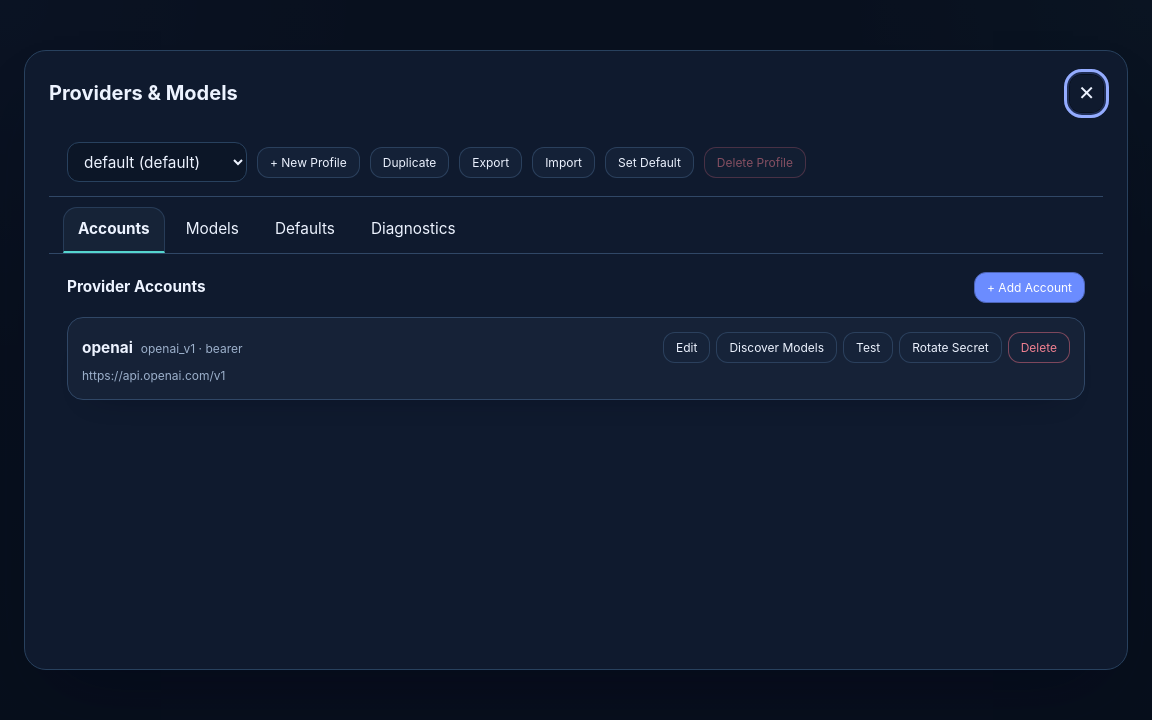
Scenario: ProviderManagementWorkspace › opens import and export actions from the header
Check: the heading "Providers & Models" is shown, box [49, 79, 238, 108]
Click the button "Export": click(491, 162) [459, 147, 522, 178]
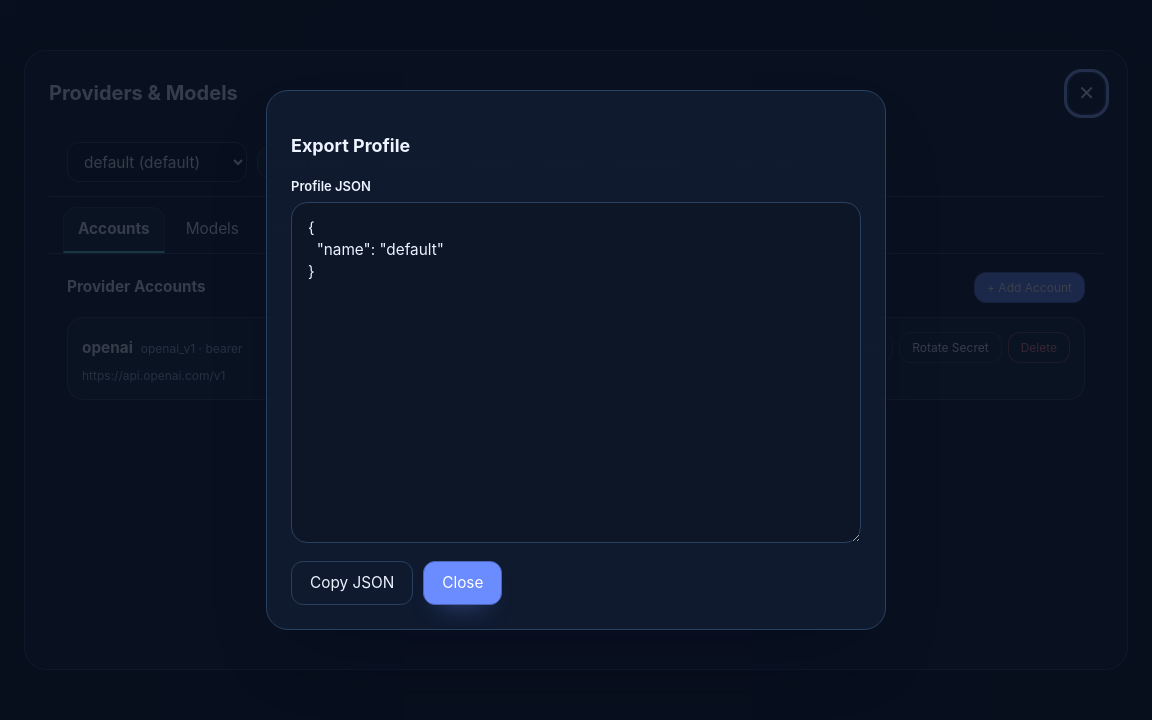
Check: the heading "Export Profile" is shown, box [291, 135, 410, 156]
Click the button "Close": click(463, 583) [423, 561, 502, 605]
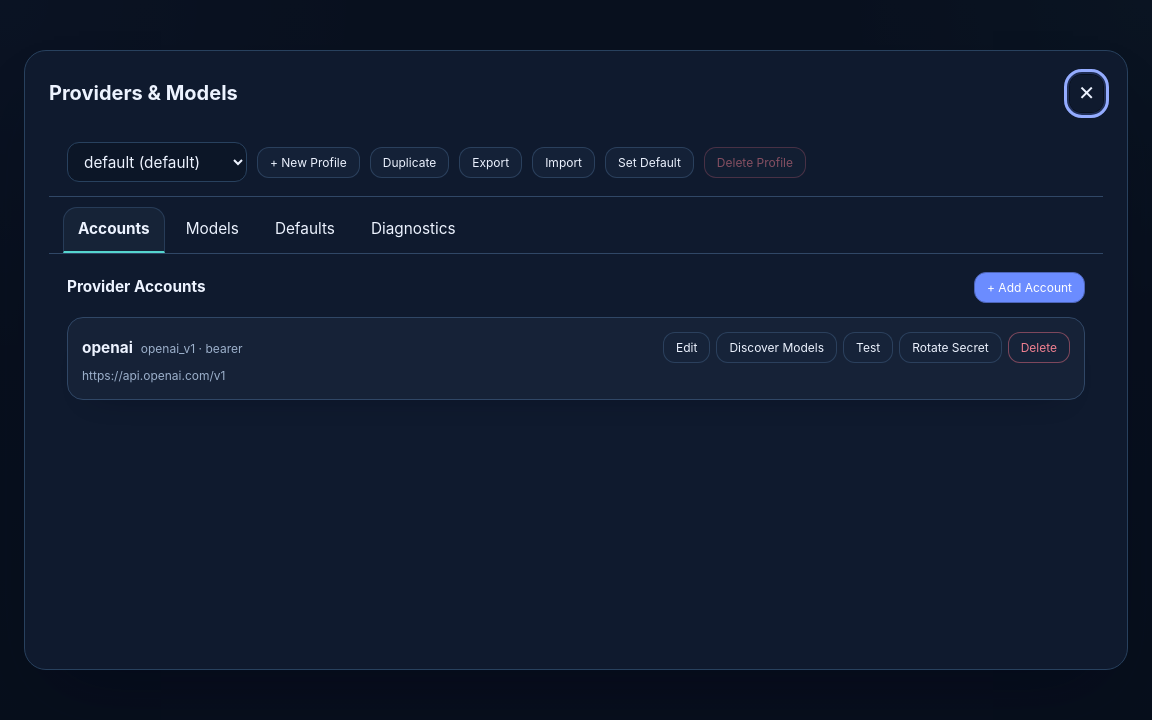
Click the button "Import": click(564, 162) [532, 147, 595, 178]
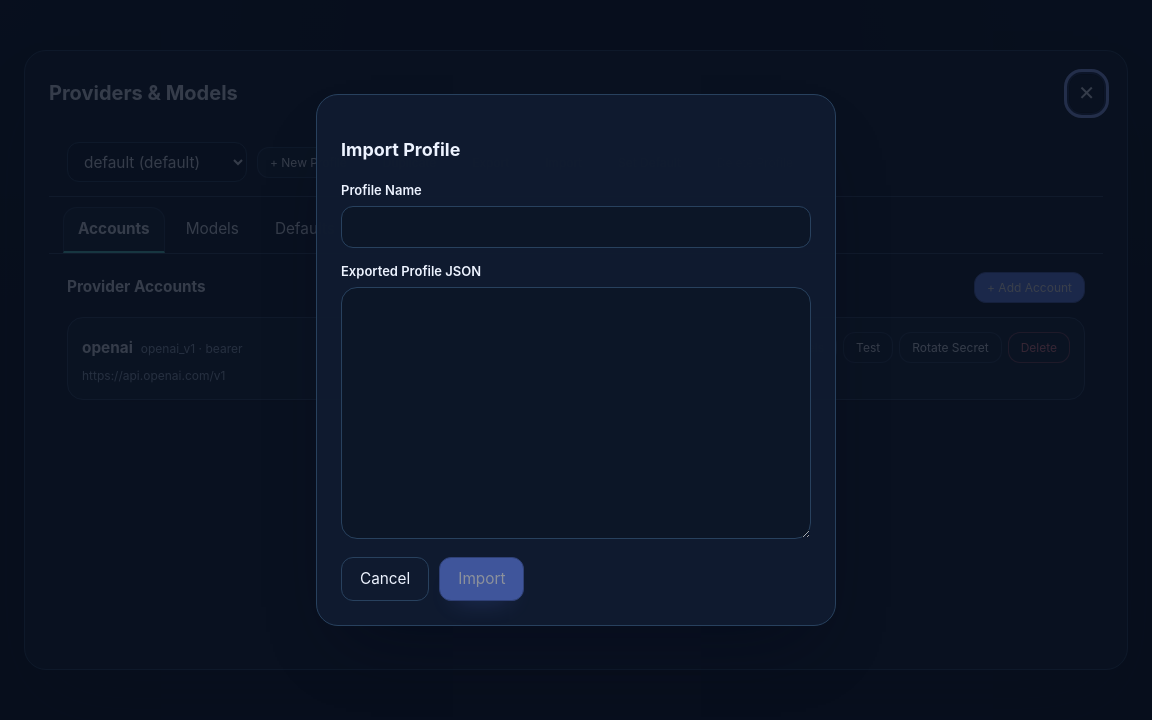
Check: the heading "Import Profile" is shown, box [341, 139, 460, 160]
